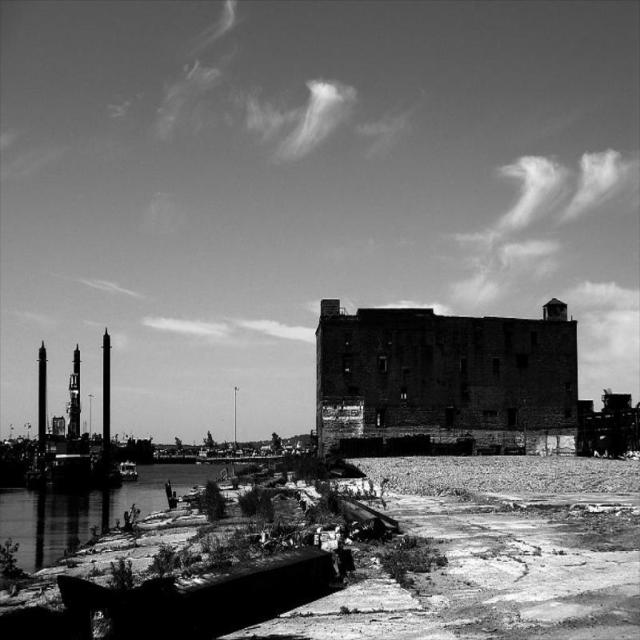Boat: (118, 457, 140, 477)
